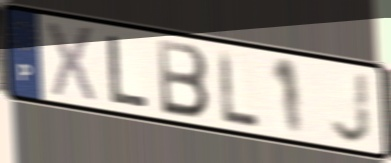1: (269, 57, 306, 139)
B: (155, 36, 212, 122)
J: (328, 69, 374, 146)
L: (216, 47, 262, 130), (107, 32, 152, 110)
X: (45, 18, 97, 107)
